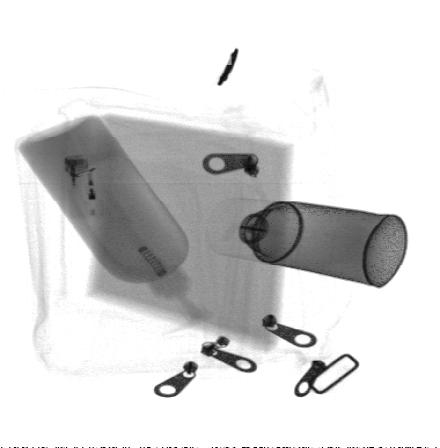Lighter: (62, 150, 105, 233)
Sprayer: (206, 196, 407, 289)
